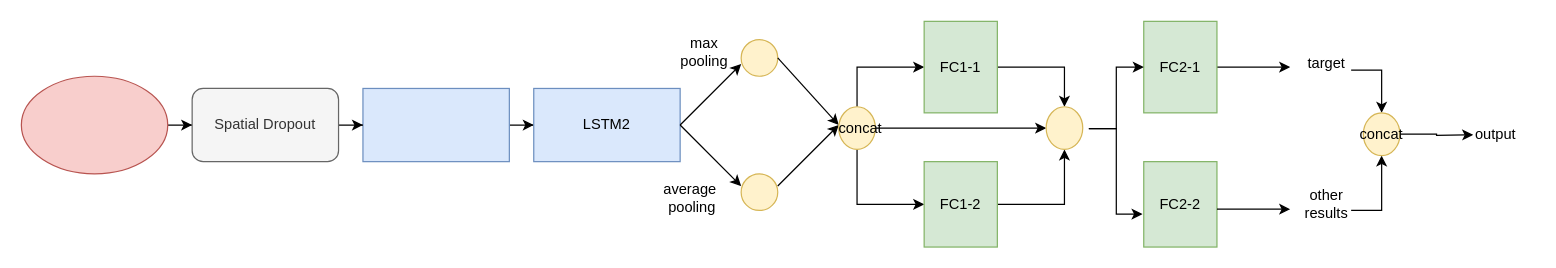
This 1556x268 diagram has some shape labels left out. The shapes that lost their labels are listed below. From the top down, each one's centre as x and y in pixels, then its label:
At point 94,124: "word embedding".
At point 435,124: "LSTM 1".
At point 1064,127: "add".
